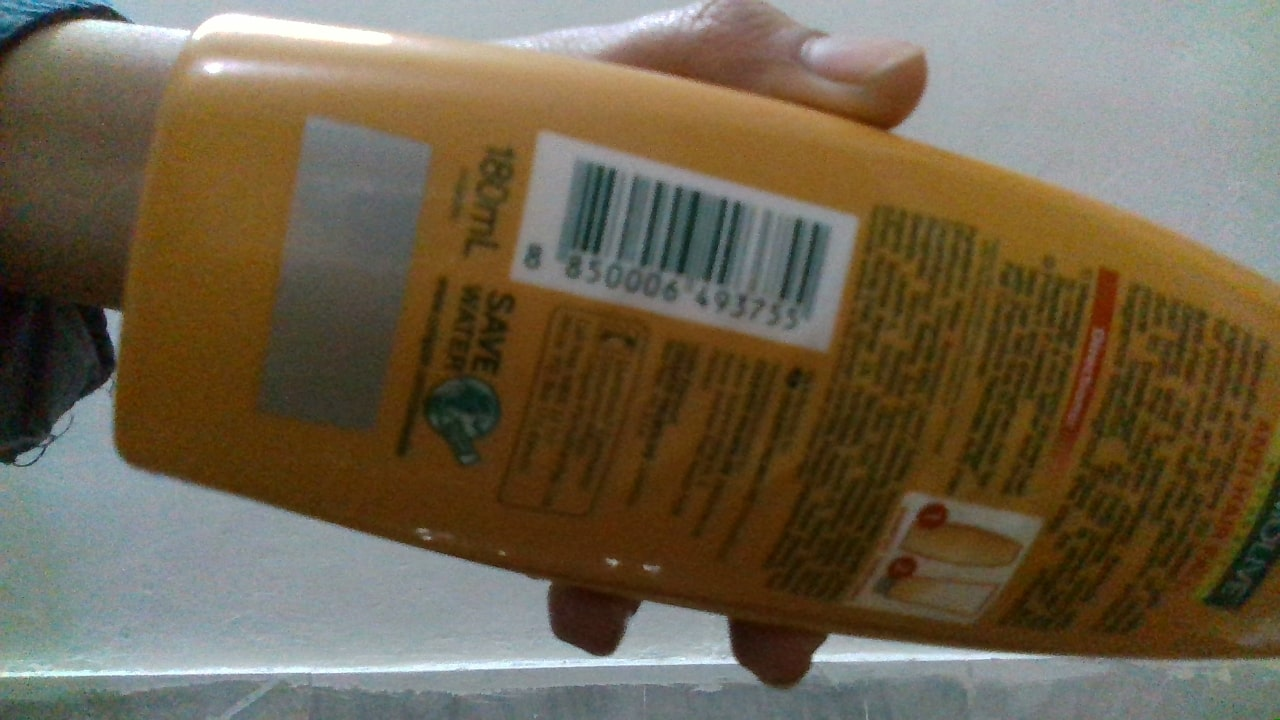Barcode: (550, 155, 838, 330)
